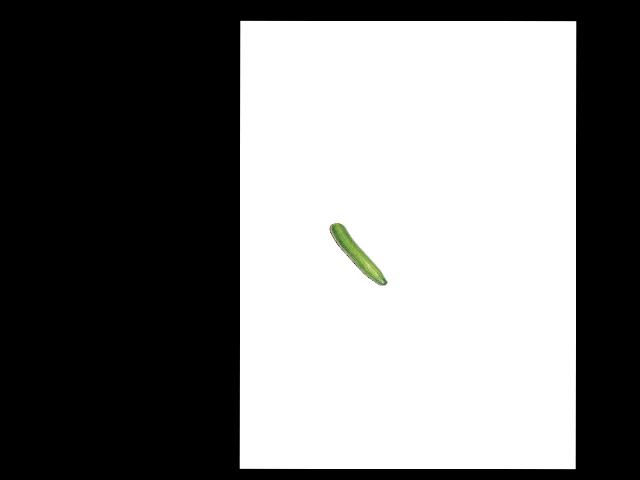cucumber: (329, 222, 387, 285)
